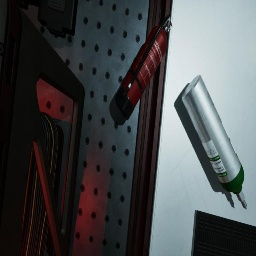0: (182, 75, 247, 210)
FireExtinguisher ]: (114, 15, 172, 120)
